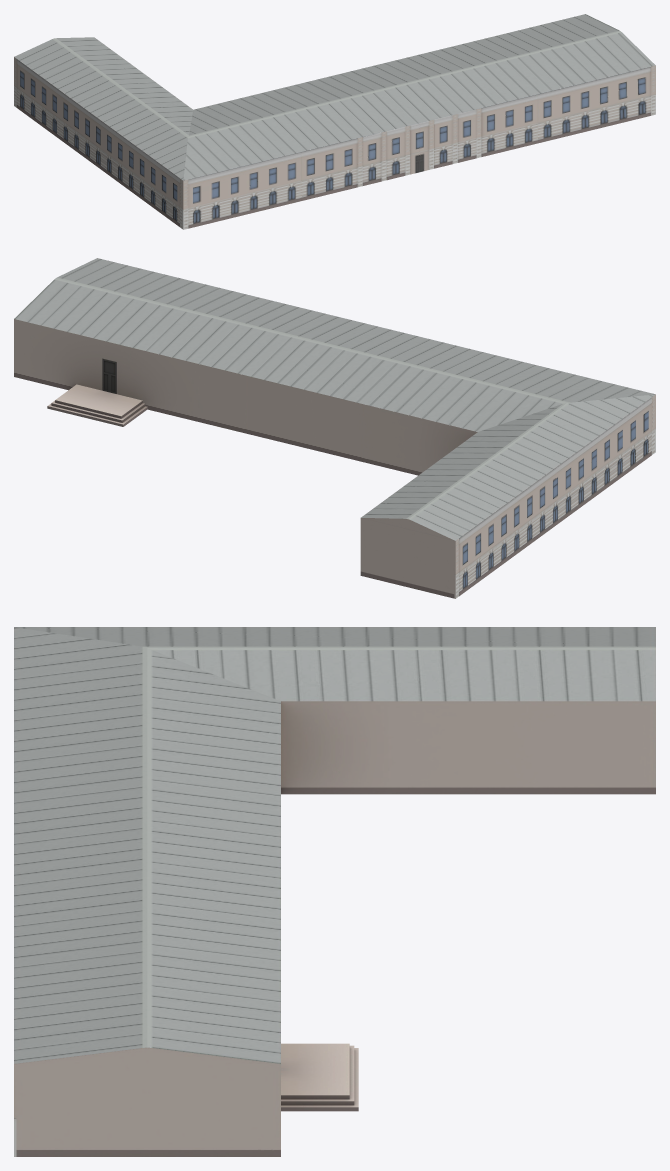
The model's file is kcg.glb.
The picture shows the model from 3 angles, top to bottom: view 1: azimuth 30°, elevation 25°; view 2: azimuth 150°, elevation 25°; view 3: azimuth 270°, elevation 25°; orthographic projection. The views are drawn at different scales.
Visible parts, largest first — view 1: kcg; view 2: kcg; view 3: kcg.
Part boxes in pixels (x1=…): kcg: x1=14, y1=14, x2=655, y2=229; kcg: x1=14, y1=258, x2=655, y2=598; kcg: x1=14, y1=627, x2=655, y2=1156.
Size of the model in its own units: 46.16 by 5.38 by 28.67.
Materials: 1 (1 with a texture image).
